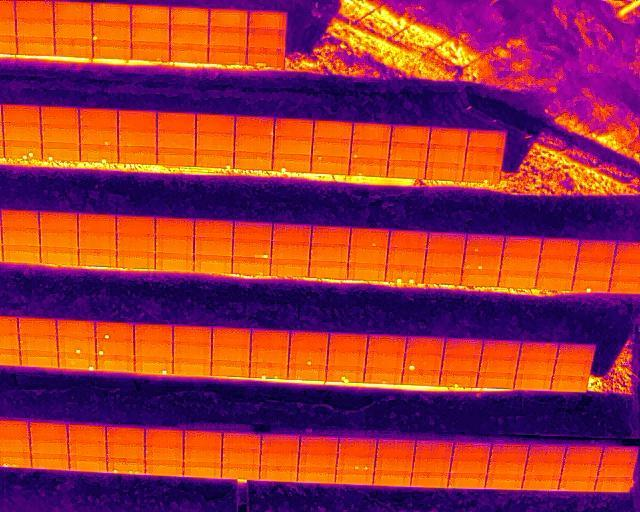Cell: (92, 21, 131, 41), (195, 149, 233, 169), (134, 356, 173, 375), (80, 143, 119, 162), (350, 229, 388, 248), (466, 235, 503, 254), (349, 159, 388, 177), (350, 142, 389, 160), (58, 352, 96, 370), (96, 338, 134, 356), (96, 322, 134, 340), (80, 126, 118, 144), (311, 155, 348, 173), (272, 155, 311, 172), (441, 369, 477, 387), (289, 348, 327, 365), (58, 336, 96, 353), (233, 241, 271, 258), (42, 143, 80, 160), (364, 367, 401, 384), (405, 353, 441, 370), (462, 166, 500, 182), (574, 276, 609, 293)
Cell-Multi: (464, 252, 502, 270), (3, 142, 41, 160), (386, 264, 423, 282), (107, 458, 145, 475), (326, 365, 363, 382), (338, 452, 374, 469), (250, 362, 288, 378), (0, 451, 31, 469)
No-Anomaly: (157, 146, 196, 167), (196, 114, 235, 134), (169, 43, 208, 63), (15, 17, 54, 37), (54, 0, 93, 20), (271, 224, 311, 243), (41, 124, 81, 143), (209, 9, 249, 28), (96, 354, 135, 373), (389, 230, 428, 249), (116, 217, 155, 236), (465, 148, 504, 167), (118, 146, 157, 165), (297, 466, 336, 485), (3, 123, 42, 142), (274, 120, 313, 139), (157, 113, 196, 132), (118, 110, 157, 129), (79, 108, 118, 127), (2, 106, 41, 125), (209, 27, 248, 46), (170, 25, 209, 44), (132, 23, 171, 42), (69, 454, 108, 473), (248, 11, 287, 30), (429, 128, 467, 147), (209, 46, 247, 65), (93, 40, 131, 59), (54, 39, 92, 58), (17, 36, 55, 55), (54, 20, 92, 39), (93, 2, 131, 21), (145, 427, 183, 446), (579, 241, 615, 261), (234, 118, 274, 136), (20, 351, 59, 369), (57, 319, 96, 337), (18, 317, 57, 335), (311, 228, 350, 246), (233, 223, 272, 241), (155, 218, 194, 236), (78, 215, 117, 233), (312, 139, 351, 157), (468, 131, 507, 149), (118, 128, 157, 146), (391, 126, 430, 144), (313, 122, 352, 140), (40, 106, 79, 124), (145, 459, 184, 477), (131, 42, 170, 60), (170, 8, 209, 26), (131, 5, 170, 23), (15, 0, 54, 18), (260, 448, 299, 466), (106, 442, 145, 460), (414, 439, 453, 457), (300, 433, 339, 451), (105, 426, 144, 444), (67, 424, 106, 442), (29, 422, 68, 440), (515, 373, 551, 392), (211, 359, 249, 377), (174, 358, 212, 376), (212, 343, 250, 361), (368, 334, 406, 352), (290, 331, 328, 349), (252, 329, 290, 347), (212, 327, 250, 345), (542, 238, 578, 257), (505, 235, 541, 254), (429, 232, 465, 251), (195, 221, 233, 239), (486, 473, 524, 491), (448, 471, 486, 489), (387, 160, 425, 178), (428, 145, 466, 163), (390, 143, 428, 161), (157, 130, 195, 148), (352, 124, 390, 142), (260, 464, 298, 482), (377, 439, 415, 457), (223, 432, 261, 450), (184, 430, 222, 448), (233, 136, 273, 153), (445, 338, 482, 356), (329, 333, 366, 351), (348, 262, 385, 280), (411, 470, 448, 488), (249, 30, 286, 48), (31, 453, 68, 471), (134, 340, 173, 357), (173, 326, 212, 343), (134, 324, 173, 341), (309, 261, 348, 278), (271, 243, 310, 260), (195, 133, 234, 150), (183, 462, 222, 479), (527, 444, 566, 461), (67, 440, 106, 457), (444, 354, 480, 372), (521, 341, 557, 359), (483, 340, 519, 358), (407, 336, 443, 354), (500, 271, 536, 289), (194, 256, 232, 273), (79, 250, 117, 267), (311, 244, 349, 261), (194, 239, 232, 256), (156, 236, 194, 253), (40, 215, 78, 232), (522, 474, 560, 491), (234, 153, 272, 170), (221, 463, 259, 480), (376, 455, 414, 472), (222, 448, 260, 465), (184, 446, 222, 463), (30, 439, 68, 456), (272, 139, 312, 155), (298, 451, 338, 467), (519, 358, 554, 376), (538, 273, 573, 291), (503, 253, 538, 271), (567, 444, 602, 462), (367, 351, 404, 368), (462, 270, 499, 287), (424, 266, 461, 283), (426, 251, 463, 268), (41, 231, 78, 248), (526, 459, 563, 476), (339, 436, 376, 453), (604, 445, 637, 464), (172, 342, 211, 358), (270, 261, 309, 277), (117, 252, 156, 268), (78, 234, 117, 250), (145, 445, 184, 461), (260, 434, 299, 450), (540, 257, 576, 274), (3, 229, 39, 246), (3, 212, 39, 229), (451, 456, 487, 473), (454, 442, 490, 459), (288, 364, 326, 380), (20, 335, 58, 351), (155, 254, 193, 270), (388, 249, 426, 265), (40, 249, 78, 265), (117, 236, 155, 252), (374, 471, 412, 487), (335, 470, 373, 486), (425, 164, 463, 180), (478, 372, 513, 389), (481, 356, 516, 373), (492, 443, 527, 460), (251, 346, 288, 362), (350, 247, 387, 263), (3, 246, 40, 262), (553, 375, 587, 392), (559, 344, 593, 361), (578, 260, 612, 277), (329, 351, 365, 367), (562, 462, 598, 478), (489, 459, 525, 475), (233, 259, 271, 274), (556, 359, 589, 376), (403, 370, 440, 385), (414, 457, 451, 472), (600, 462, 634, 478), (597, 476, 630, 492), (561, 477, 595, 492)
Unclassified: (247, 48, 285, 67)
